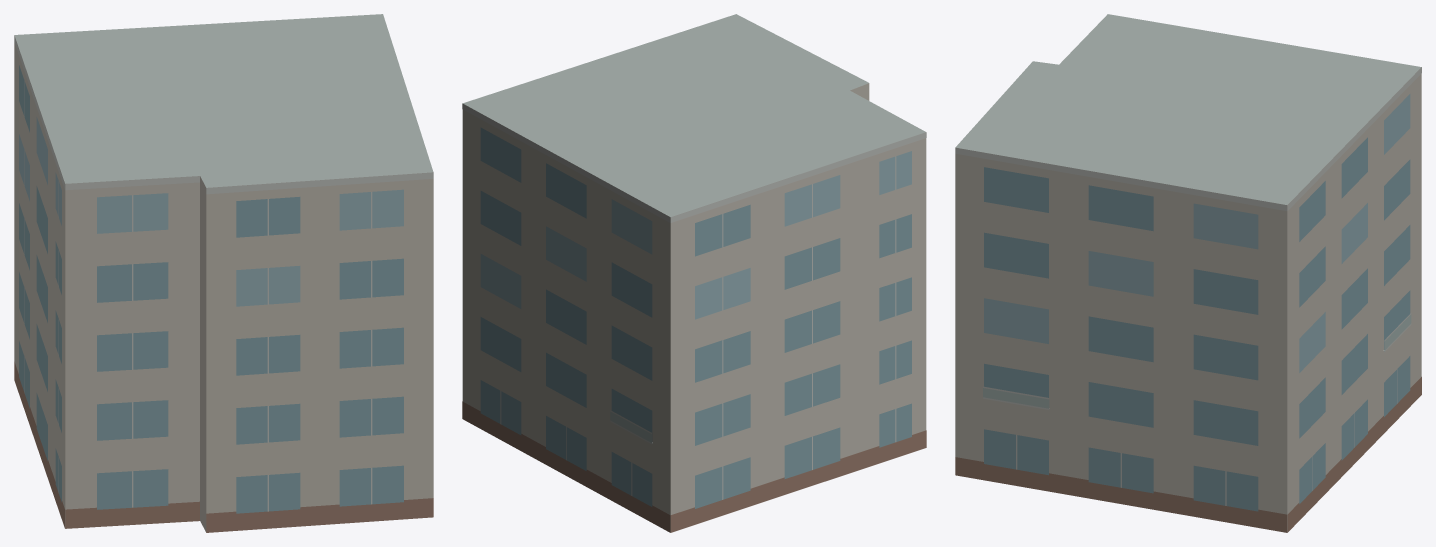
Rendered from survey-upis-32978715.glb.
3 renders of one model, left to right at view 1: azimuth 30°, elevation 25°; view 2: azimuth 150°, elevation 25°; view 3: azimuth 270°, elevation 25°, orthographic. The views are drawn at different scales.
Parts seen in each view (by area): view 1: survey-upis-32978715.tmp; view 2: survey-upis-32978715.tmp; view 3: survey-upis-32978715.tmp.
Part boxes in pixels (bbox=[...]): survey-upis-32978715.tmp: bbox=[14, 14, 433, 532]; survey-upis-32978715.tmp: bbox=[462, 14, 926, 532]; survey-upis-32978715.tmp: bbox=[955, 14, 1421, 532].
Bounding box in the file's own units: 16.27 × 13 × 16.78.
